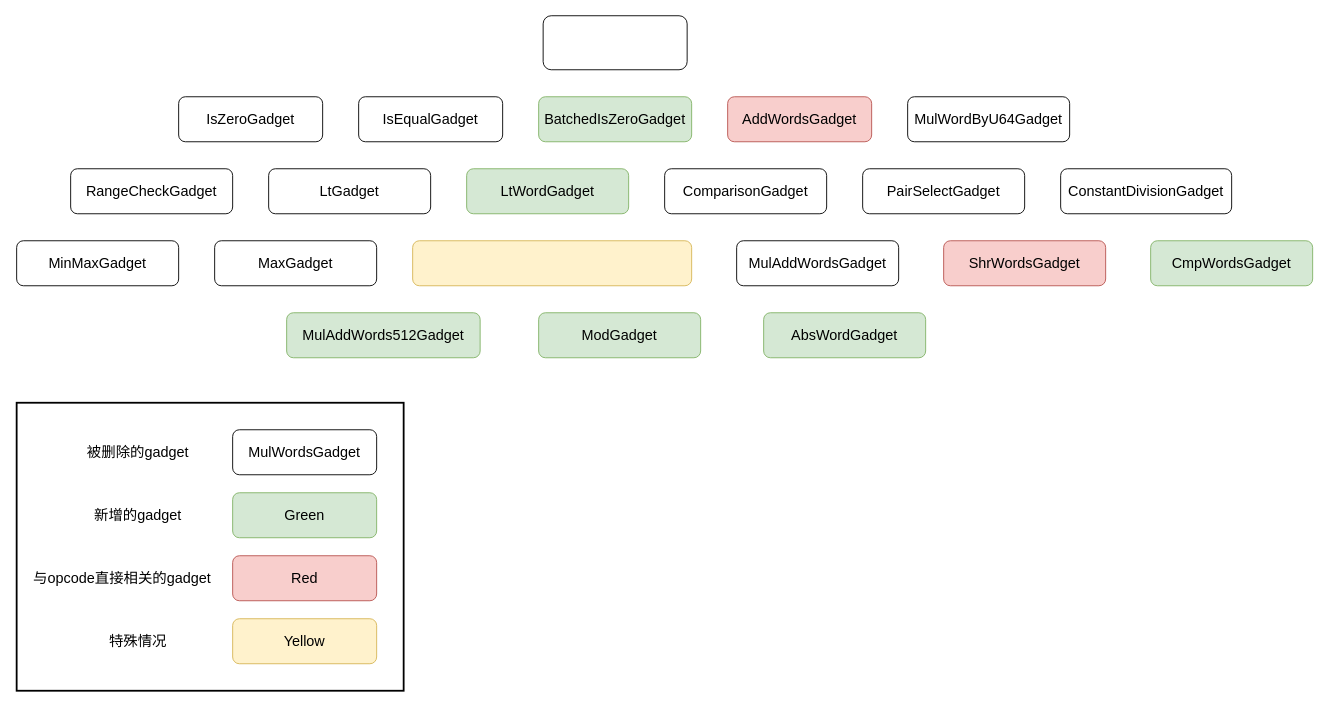
Some shapes in this 1328 by 707 pixel diagram are drawn without their labels. The box of each missing label's shape, as (x1, y1, x2, y2) in pixels:
generate_lagrange_base_polynomial: (412, 240, 692, 286)
Math Gadgets: (542, 15, 687, 70)
